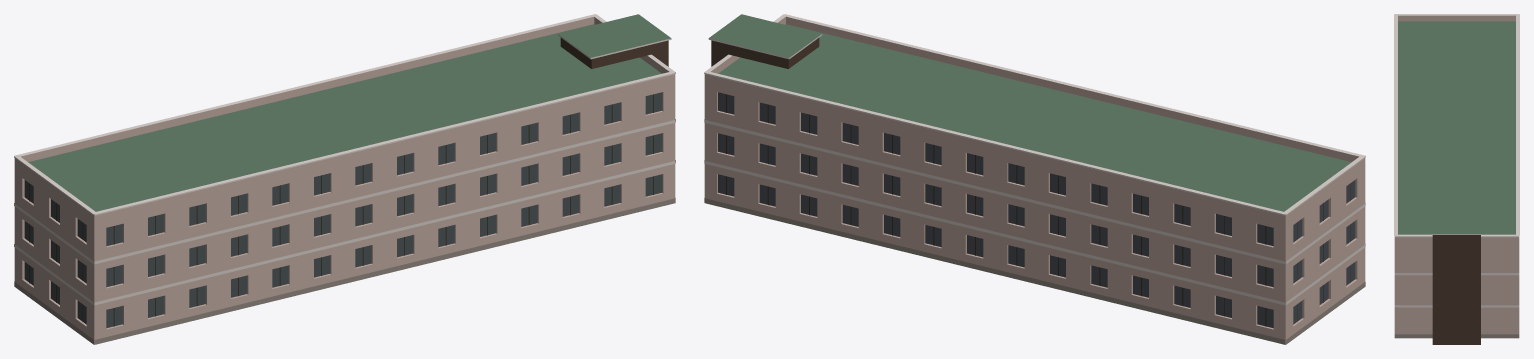
3 views of the same model, side by side, from view 1: azimuth 30°, elevation 25°; view 2: azimuth 150°, elevation 25°; view 3: azimuth 270°, elevation 25° (orthographic). The views are drawn at different scales.
Visible parts, largest first — view 1: changsin__wall, changsin__roof, changsin__glass, changsin__trim, changsin__parapet, changsin__base, changsin__frame, changsin__wall2; view 2: changsin__wall, changsin__roof, changsin__glass, changsin__trim, changsin__parapet, changsin__base, changsin__frame, changsin__wall2; view 3: changsin__roof, changsin__wall, changsin__wall2, changsin__trim, changsin__parapet, changsin__base.
Boxes of the visible parts, left/top/right/bottom form: changsin__wall: left=14, top=80, right=675, bottom=344; changsin__roof: left=28, top=14, right=670, bottom=211; changsin__glass: left=24, top=92, right=661, bottom=328; changsin__trim: left=14, top=14, right=675, bottom=305; changsin__parapet: left=14, top=17, right=675, bottom=221; changsin__base: left=14, top=198, right=675, bottom=344; changsin__frame: left=29, top=94, right=653, bottom=326; changsin__wall2: left=560, top=38, right=668, bottom=68; changsin__wall: left=704, top=80, right=1365, bottom=344; changsin__roof: left=709, top=14, right=1351, bottom=211; changsin__glass: left=718, top=92, right=1355, bottom=328; changsin__trim: left=704, top=14, right=1365, bottom=305; changsin__parapet: left=704, top=16, right=1365, bottom=221; changsin__base: left=704, top=198, right=1365, bottom=344; changsin__frame: left=726, top=94, right=1350, bottom=326; changsin__wall2: left=711, top=38, right=819, bottom=68; changsin__roof: left=1398, top=21, right=1515, bottom=234; changsin__wall: left=1394, top=242, right=1519, bottom=334; changsin__wall2: left=1432, top=235, right=1480, bottom=344; changsin__trim: left=1394, top=14, right=1519, bottom=307; changsin__parapet: left=1394, top=15, right=1519, bottom=241; changsin__base: left=1394, top=334, right=1519, bottom=338.
Size of the model in its own units: 50.64 by 11.52 by 11.74.
